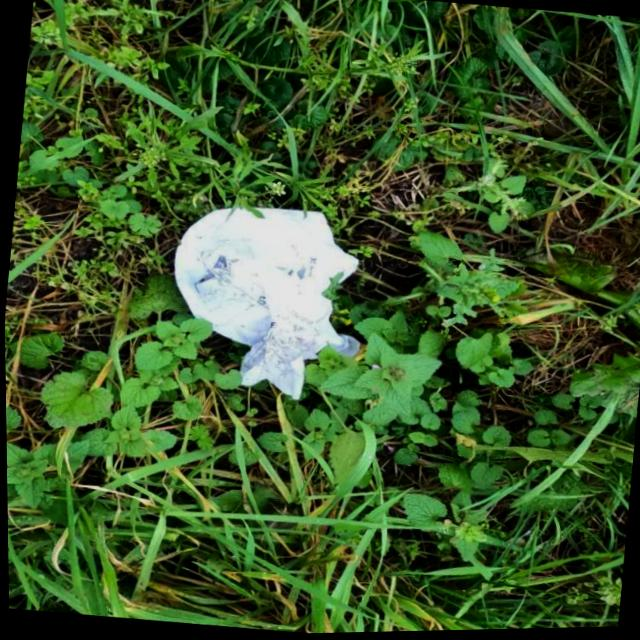Paper: (180, 220, 353, 410)
